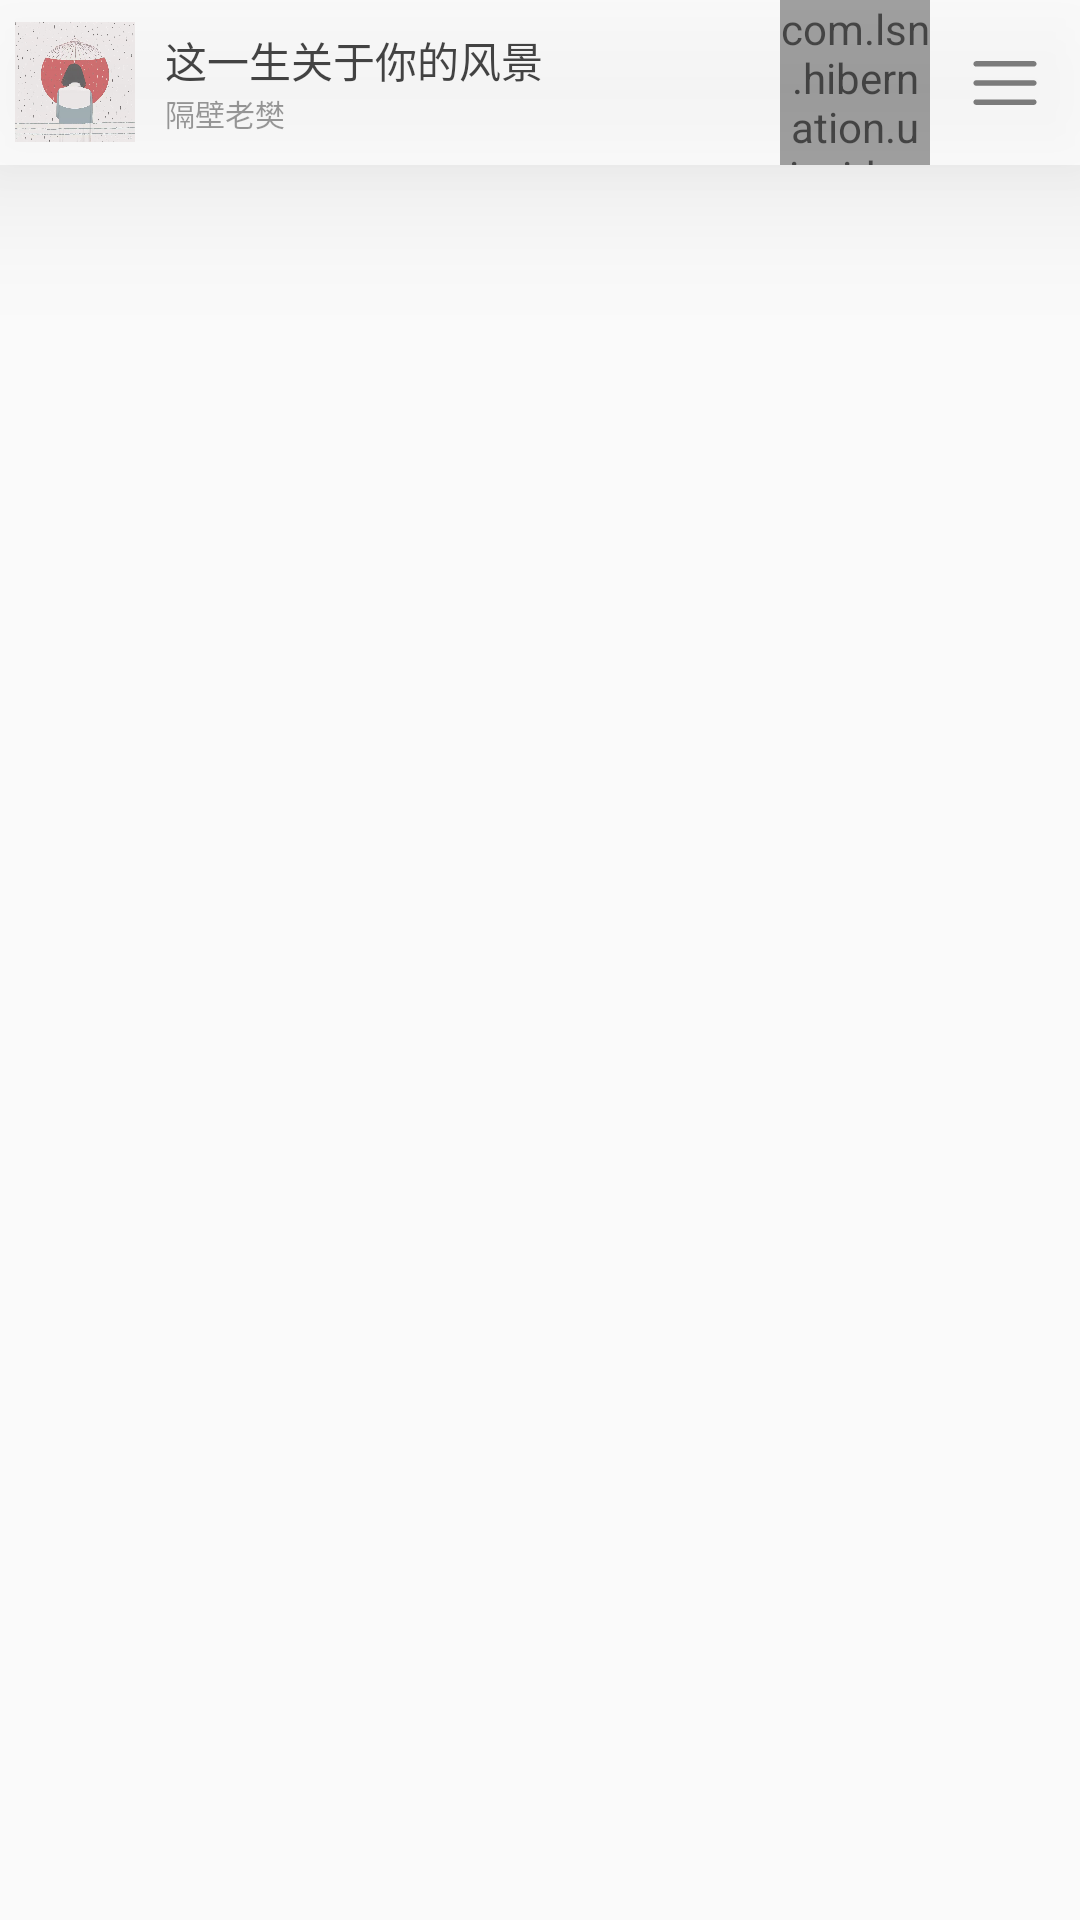

Point at icon controls on the screen. Image size 1080×1920, points as [x,y].
menu: [1005,82]
